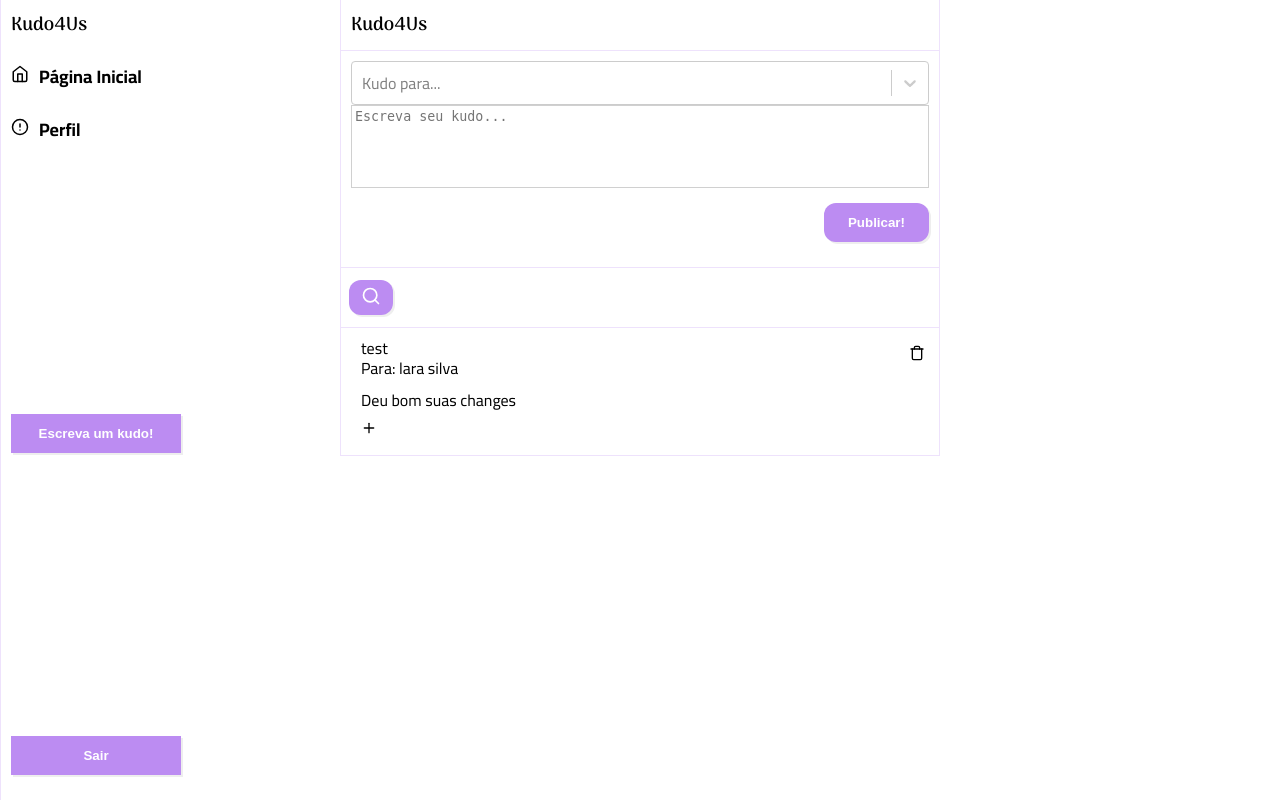
it: Testing Home page › should add a kudo
Type "John Lennon" into the element showing "Kudo para..." at (640, 83), box left=351, top=61, right=929, bottom=105
Then press Enter
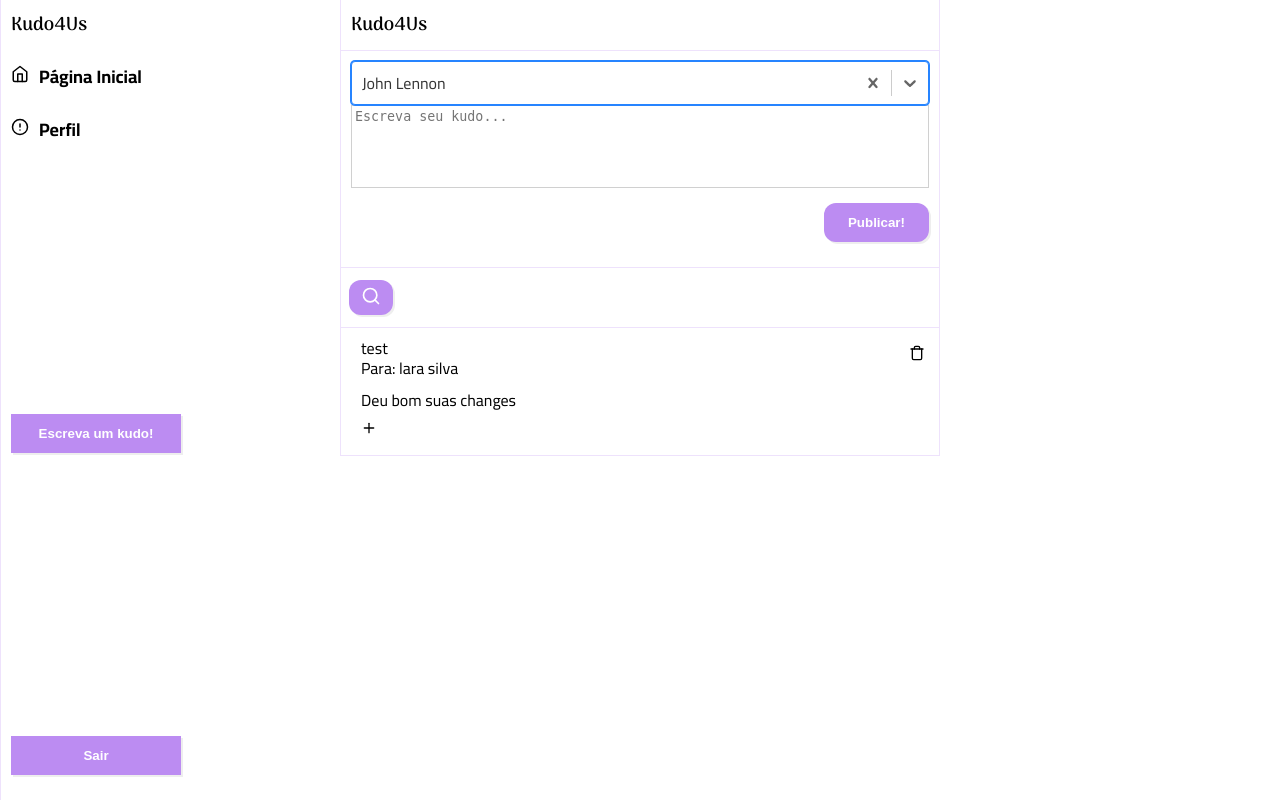
Type "Testing kudo!" into the text box with placeholder "Escreva seu kudo..." at (640, 147), box left=351, top=105, right=929, bottom=188
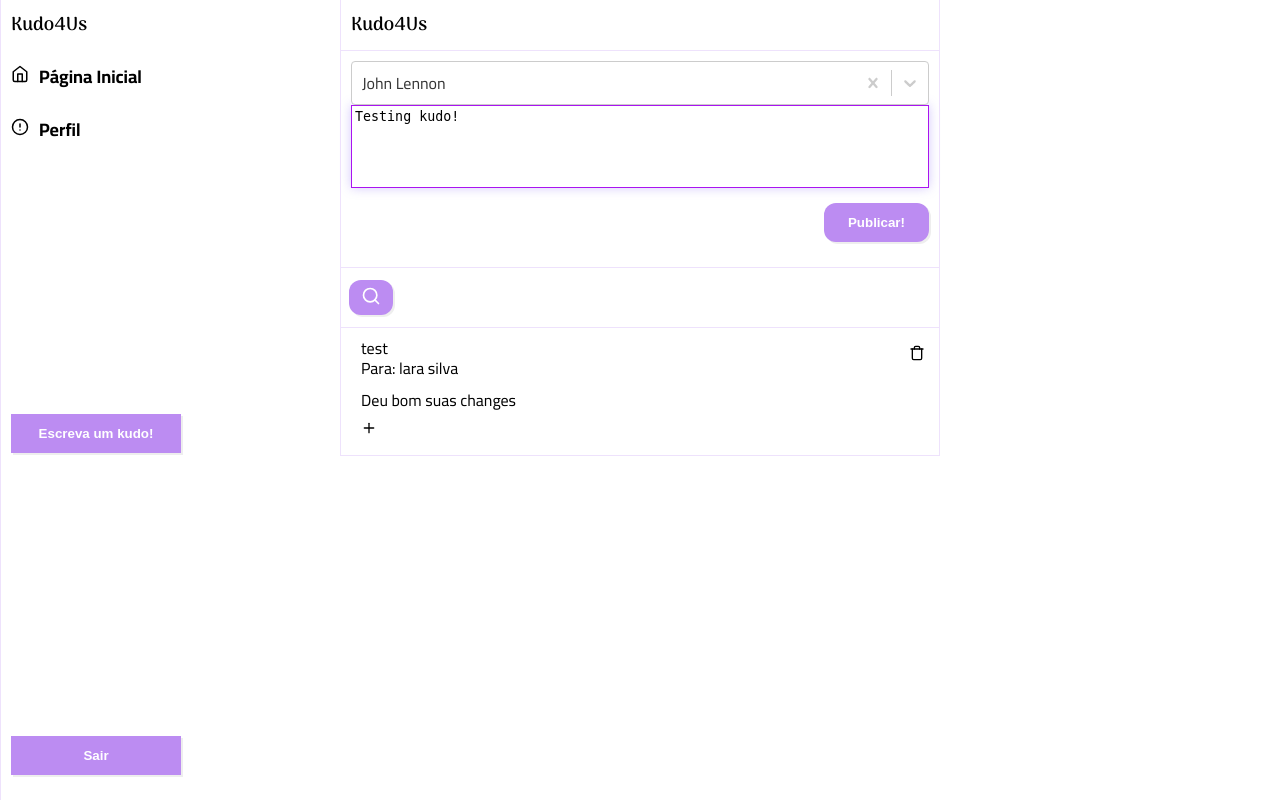
Click the button "Publicar!" at (877, 223), box left=824, top=203, right=929, bottom=242
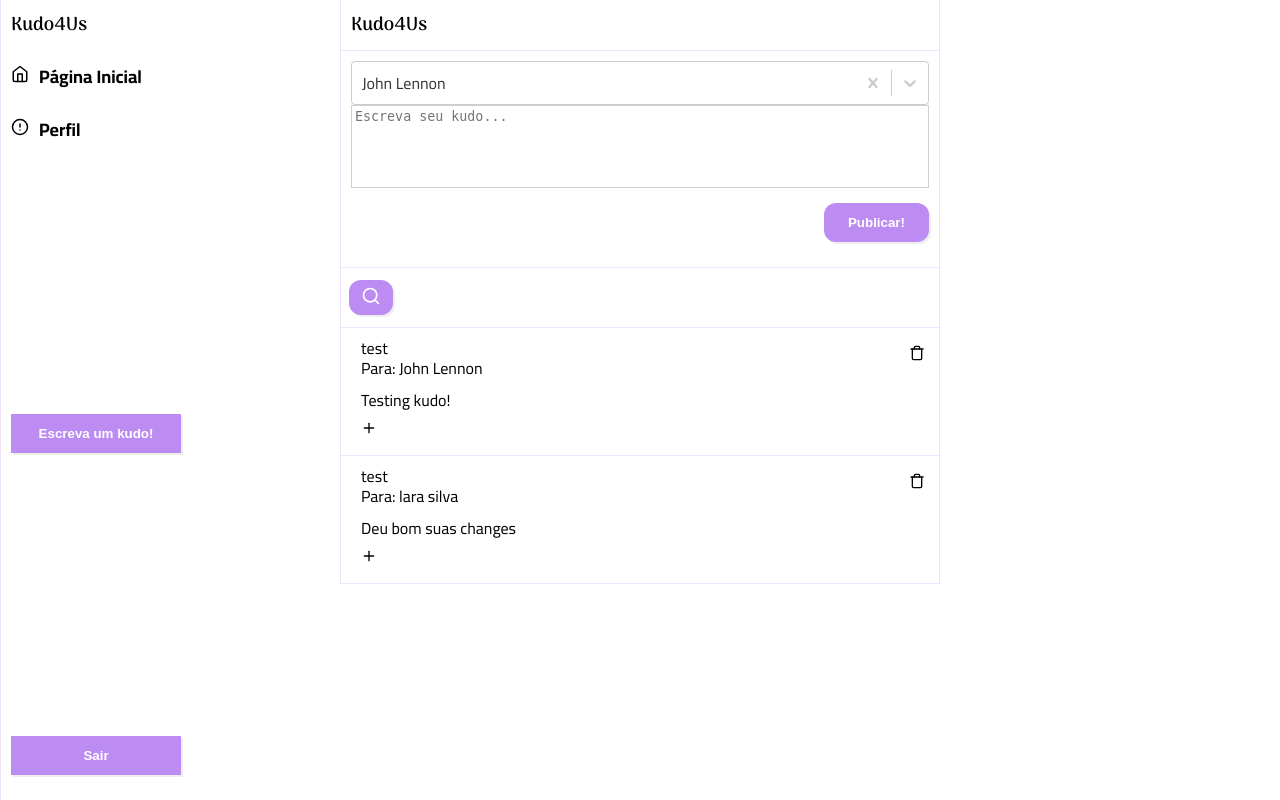
Expected: the 1st text "test" is shown, left=361, top=333, right=388, bottom=363
Expected: the text "Para: John Lennon" is shown, left=361, top=358, right=483, bottom=378
Expected: the text "Testing kudo!" is shown, left=361, top=385, right=451, bottom=415
